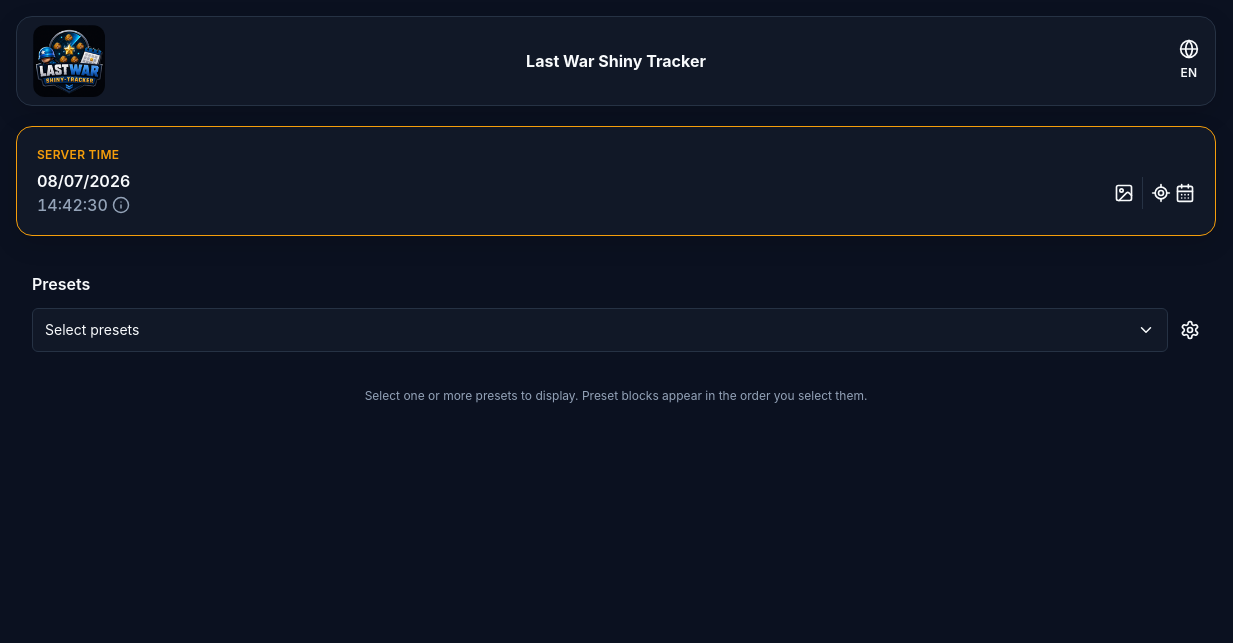
Scenario: MainPage › closes the calendar when clicking outside its toggle and overlay
The image size is (1233, 643).
Click the button named "Show calendar". click: [1185, 193]
box: [1175, 183, 1195, 203]
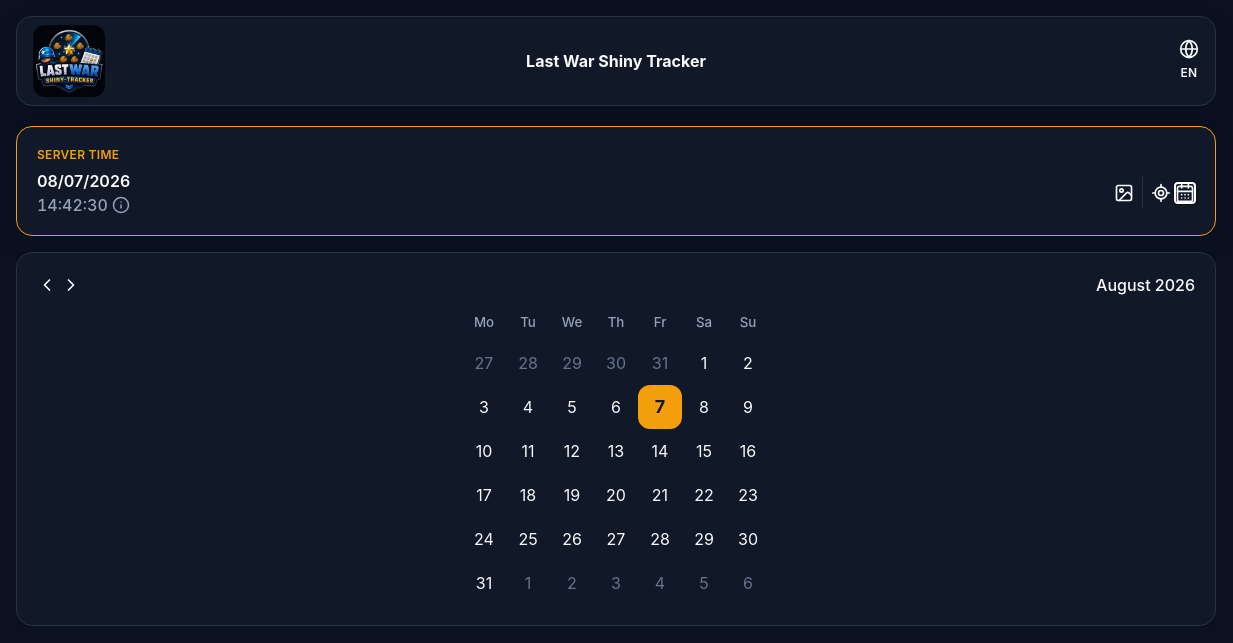
Press the mouse on the text "08/07/2026" at [84, 181], box [37, 171, 130, 191]
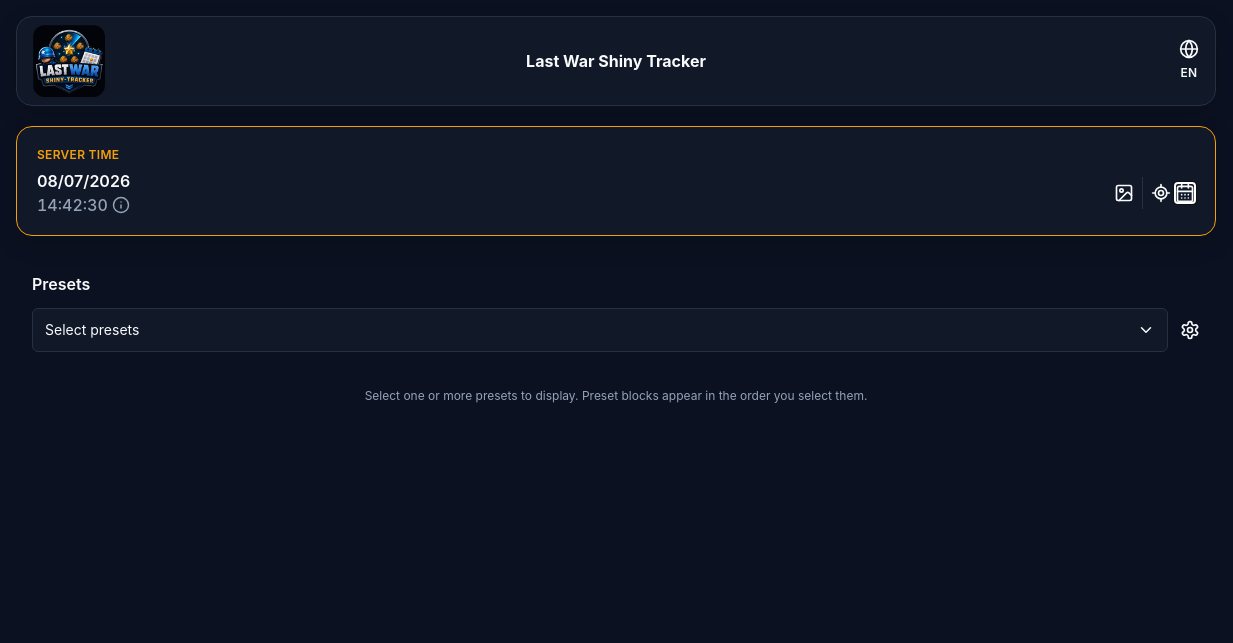
Result: the heading "Calendar" is gone
